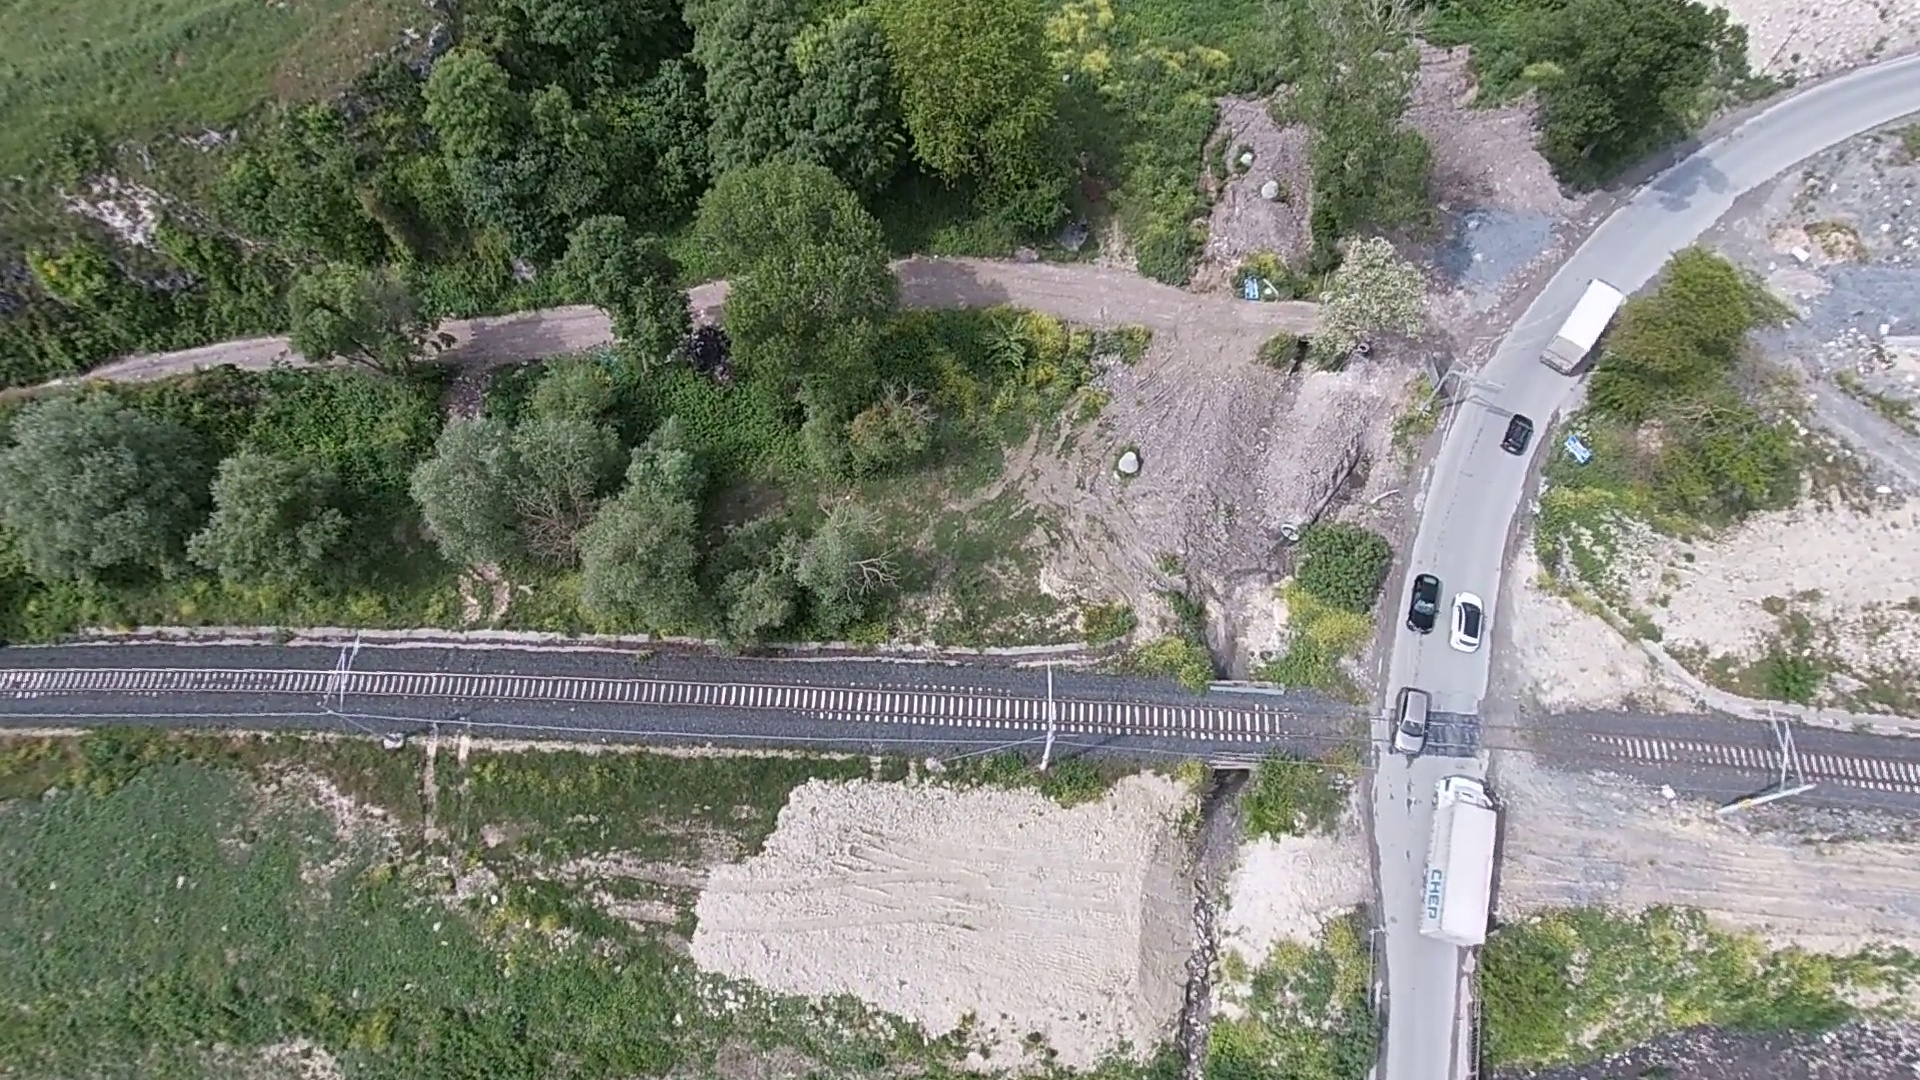araba: (1382, 682, 1433, 762), (1400, 566, 1441, 640), (1447, 589, 1487, 655), (1495, 404, 1542, 462)
kamyon: (1412, 764, 1510, 952), (1530, 274, 1633, 377)
